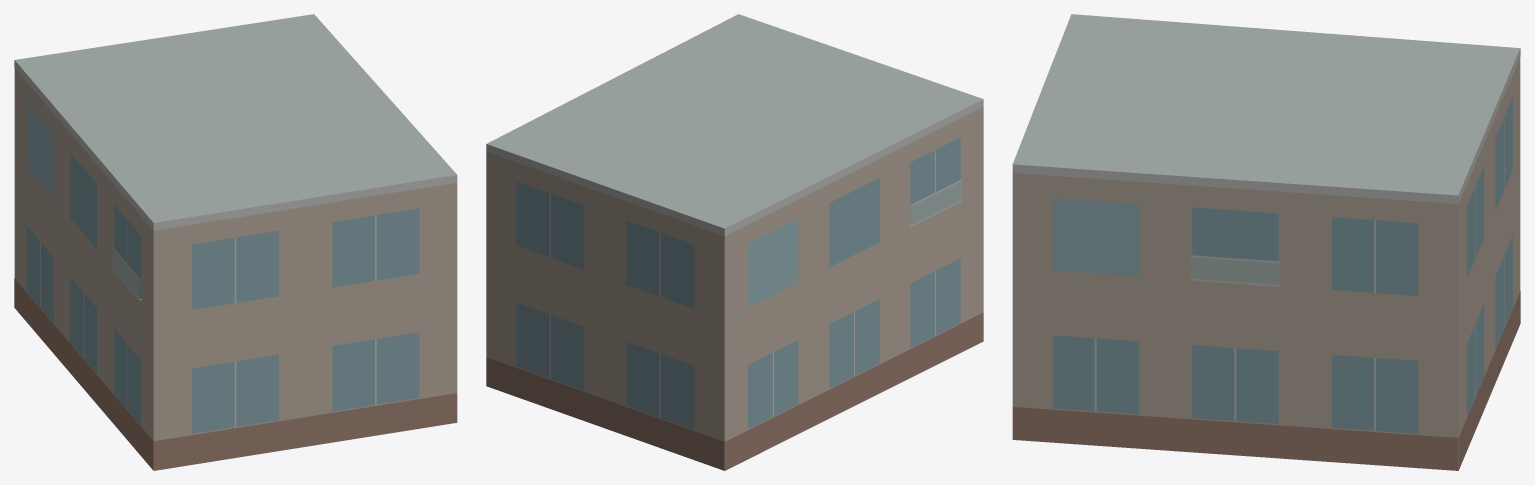
The model's file is survey-upis-32746451.glb.
3 renders of one model, left to right at view 1: azimuth 30°, elevation 25°; view 2: azimuth 150°, elevation 25°; view 3: azimuth 270°, elevation 25°, orthographic. The views are drawn at different scales.
Visible parts, largest first — view 1: survey-upis-32746451.tmp; view 2: survey-upis-32746451.tmp; view 3: survey-upis-32746451.tmp.
Boxes of the visible parts, x1=… form: survey-upis-32746451.tmp: x1=14, y1=14, x2=457, y2=470; survey-upis-32746451.tmp: x1=486, y1=14, x2=983, y2=470; survey-upis-32746451.tmp: x1=1012, y1=14, x2=1520, y2=470.
Bounding box in the file's own units: 11.03 × 7.8 × 13.05.
